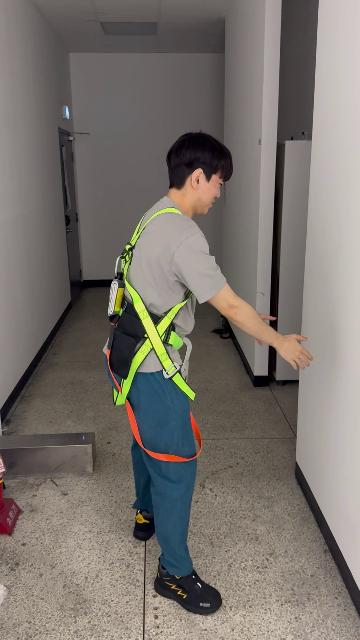helmet_not_worn: (166, 131, 234, 212)
shoe_worn: (154, 561, 221, 615), (133, 508, 155, 540)
vest_worn: (101, 212, 202, 461)
